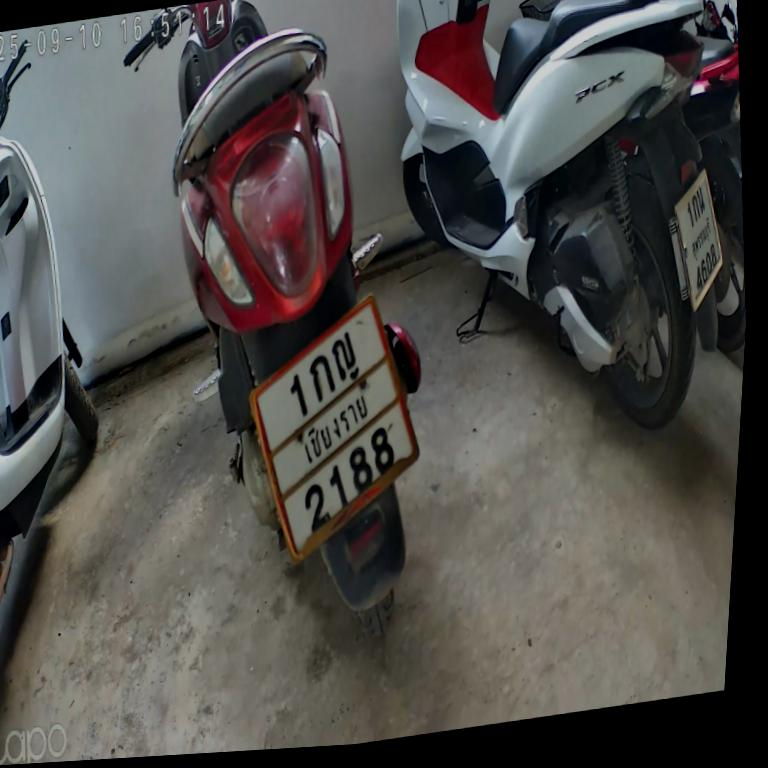license plate: (221, 280, 447, 580), (655, 158, 740, 327)
